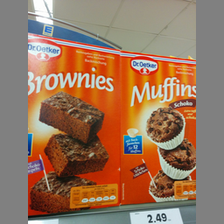cake: (27, 33, 123, 207), (121, 49, 195, 206)
